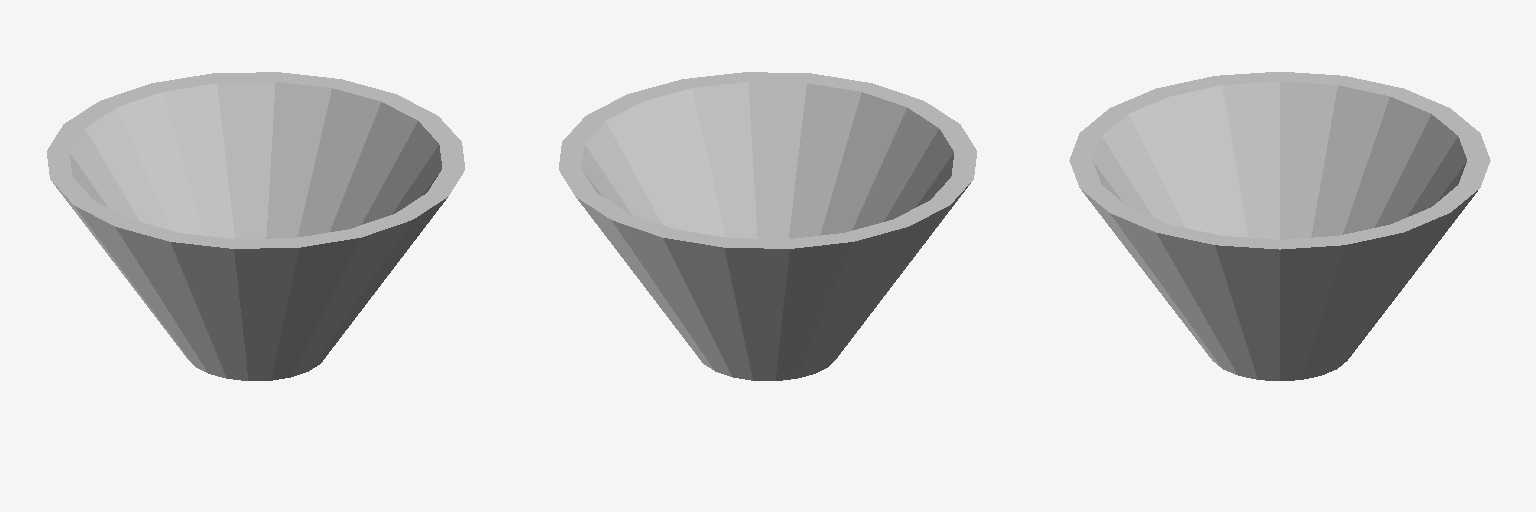
The model's file is big_funnel.obj.
3 renders of one model, left to right at view 1: azimuth 30°, elevation 25°; view 2: azimuth 150°, elevation 25°; view 3: azimuth 270°, elevation 25°, orthographic.
Parts seen in each view (by area): view 1: funnel; view 2: funnel; view 3: funnel.
Boxes of the visible parts, <box> form: funnel: <box>47,72,464,380</box>; funnel: <box>559,72,976,380</box>; funnel: <box>1069,72,1490,380</box>.
Size of the model in its own units: 0.2 by 0.1 by 0.2.